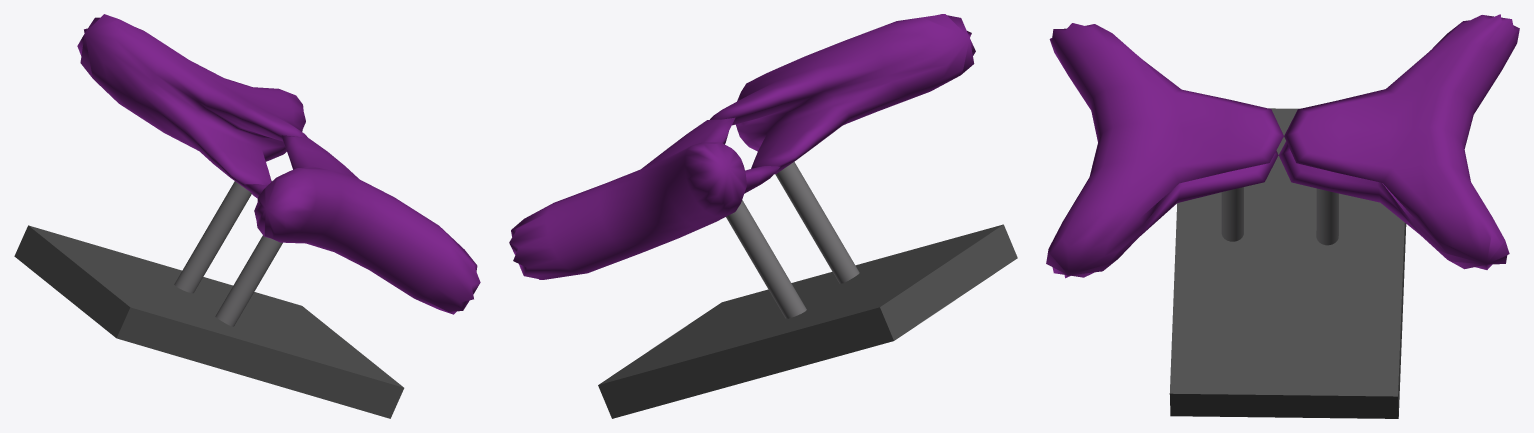
File: elevatorhandle2.fbx
3 renders of one model, left to right at view 1: azimuth 30°, elevation 25°; view 2: azimuth 150°, elevation 25°; view 3: azimuth 270°, elevation 25°, orthographic. The views are drawn at different scales.
Visible parts, largest first — view 1: Handle, pCube10, pCylinder15, pCylinder14; view 2: Handle, pCube10, pCylinder14, pCylinder15; view 3: Handle, pCube10, pCylinder15, pCylinder14.
Boxes of the visible parts, box(x1,y1,x2,y2) form: Handle: box(77, 14, 480, 314); pCube10: box(14, 225, 404, 418); pCylinder15: box(174, 181, 251, 293); pCylinder14: box(215, 235, 282, 326); Handle: box(509, 14, 975, 279); pCube10: box(598, 224, 1017, 418); pCylinder14: box(775, 161, 859, 283); pCylinder15: box(726, 200, 806, 318); Handle: box(1046, 14, 1519, 278); pCube10: box(1169, 108, 1406, 418); pCylinder15: box(1316, 188, 1338, 245); pCylinder14: box(1221, 187, 1243, 241).
Bounding box in the file's own units: 3.77 × 3.54 × 4.53.
